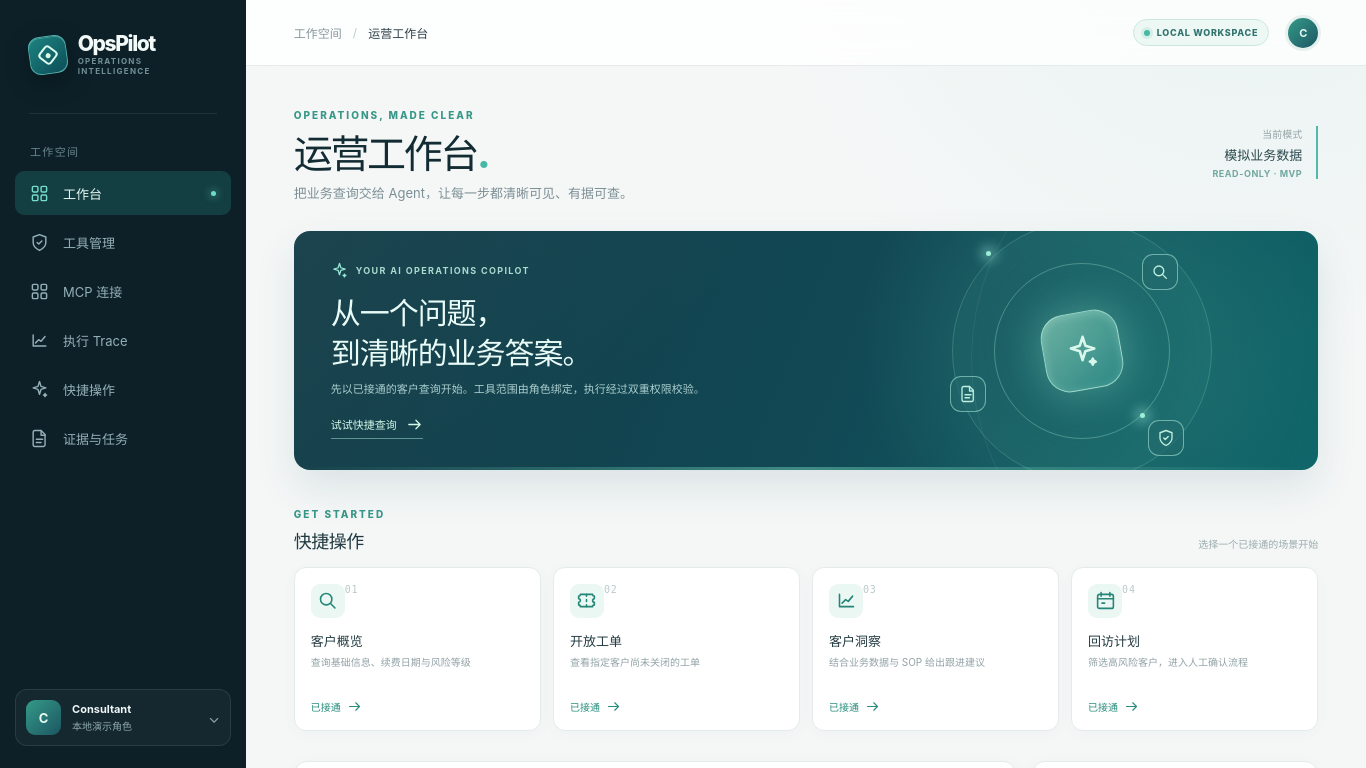
Test case: OpsPilot current frontend slice › explicitly requests insight after selecting its shortcut
The image size is (1366, 768).
Click the button with aria-label "客户洞察，填入提问": x=936, y=649 [812, 567, 1059, 731]
(page scrolled)
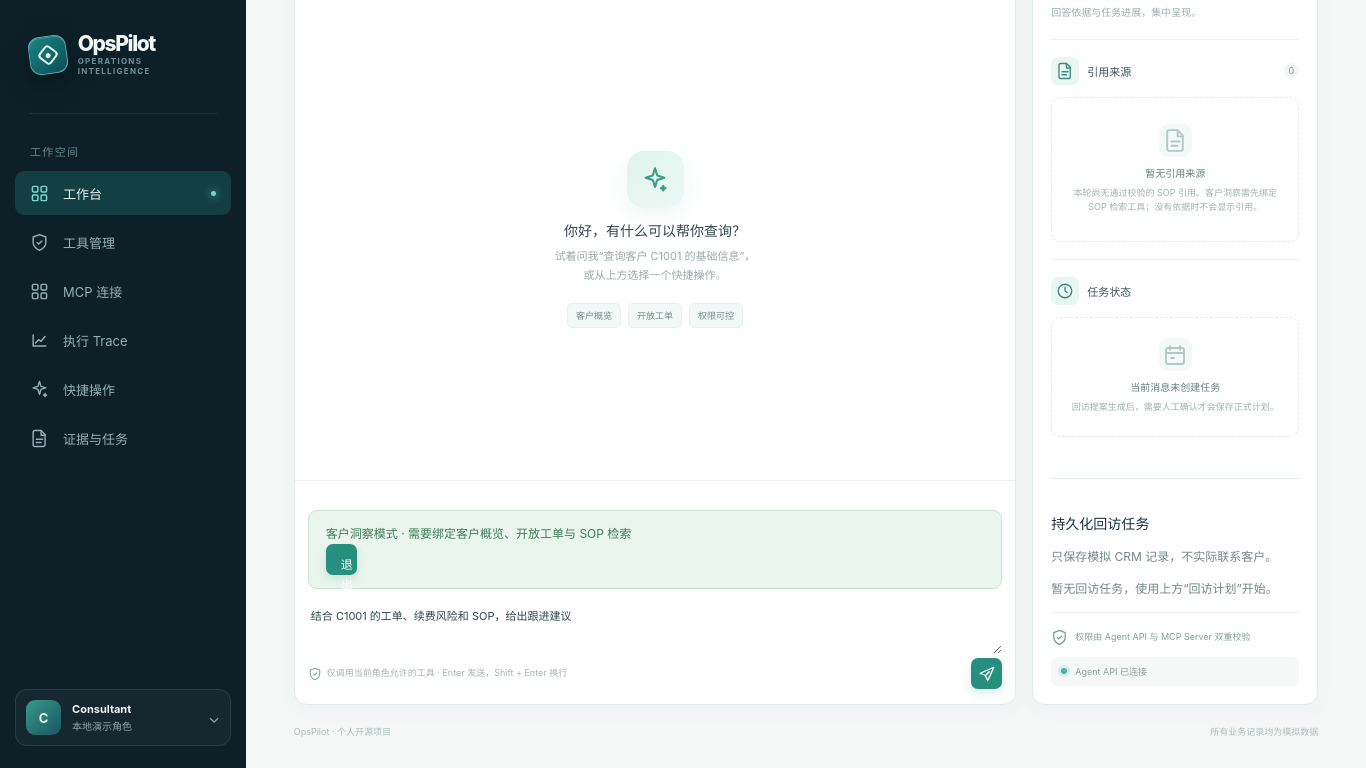
Check: the button "退出洞察模式" is shown, box [326, 544, 357, 575]
Click the button named "发送消息": x=987, y=674 [971, 658, 1002, 689]
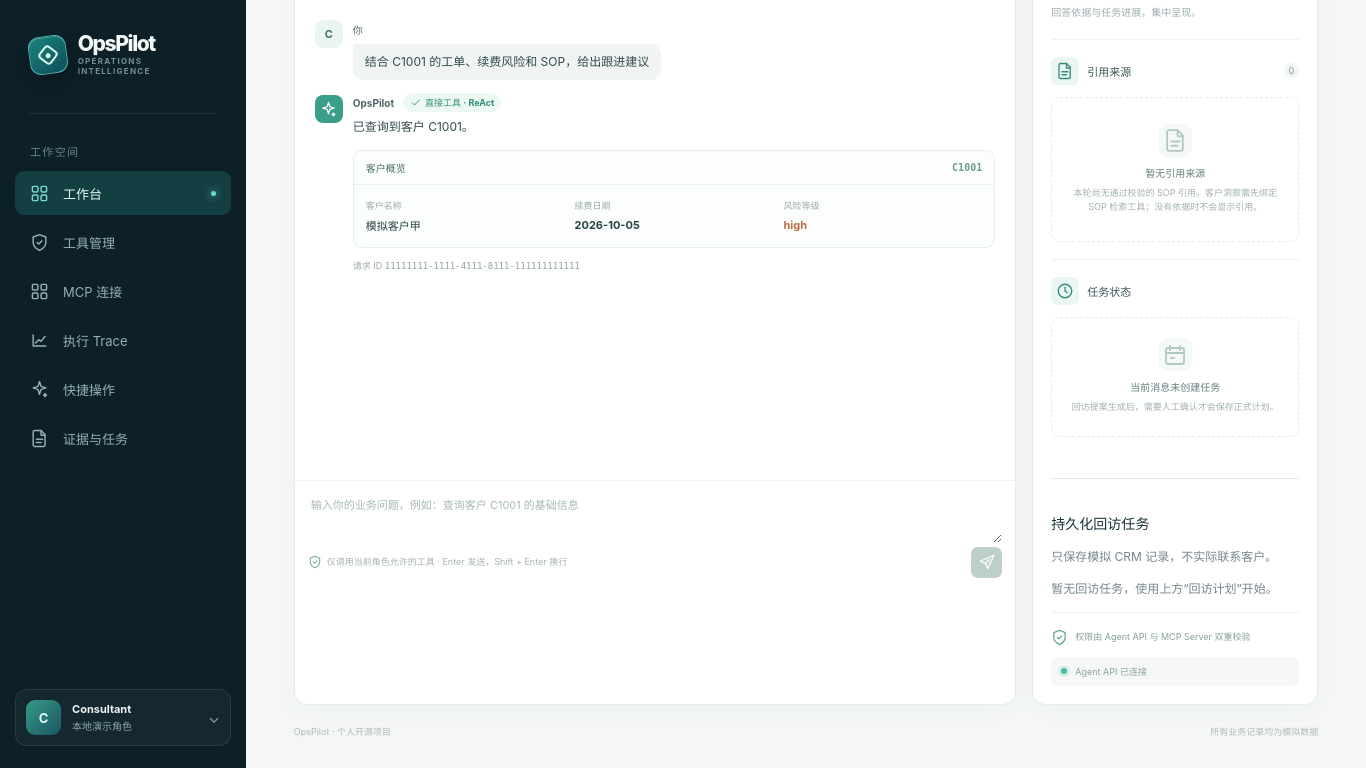
Check: the text "模拟客户甲" is shown, box [366, 219, 421, 233]
